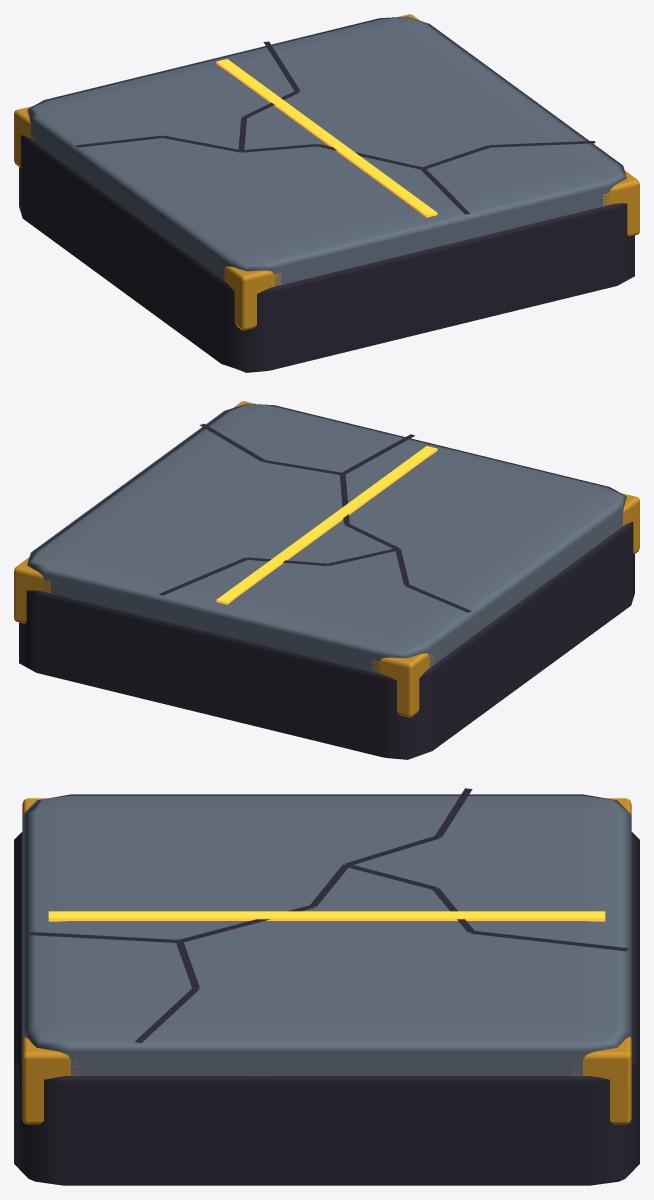
Rendered from cityscape-unstable.glb.
3 renders of one model, top to bottom at view 1: azimuth 30°, elevation 25°; view 2: azimuth 150°, elevation 25°; view 3: azimuth 270°, elevation 25°, orthographic. The views are drawn at different scales.
Visible parts, largest first — view 1: cityscape_unstable_tile; view 2: cityscape_unstable_tile; view 3: cityscape_unstable_tile.
Boxes of the visible parts, x1=… form: cityscape_unstable_tile: x1=14, y1=14, x2=639, y2=372; cityscape_unstable_tile: x1=14, y1=401, x2=639, y2=759; cityscape_unstable_tile: x1=14, y1=788, x2=639, y2=1185.
Size of the model in its own units: 2.25 by 0.585 by 2.25.
